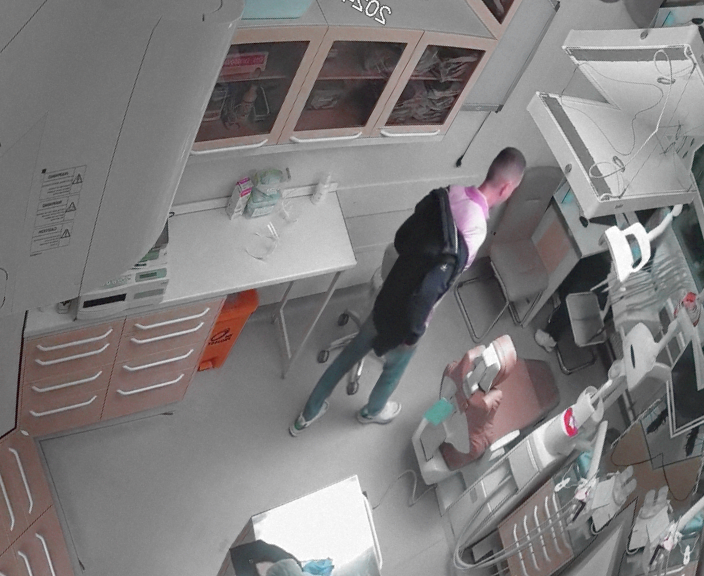Empty: (392, 320, 571, 519)
